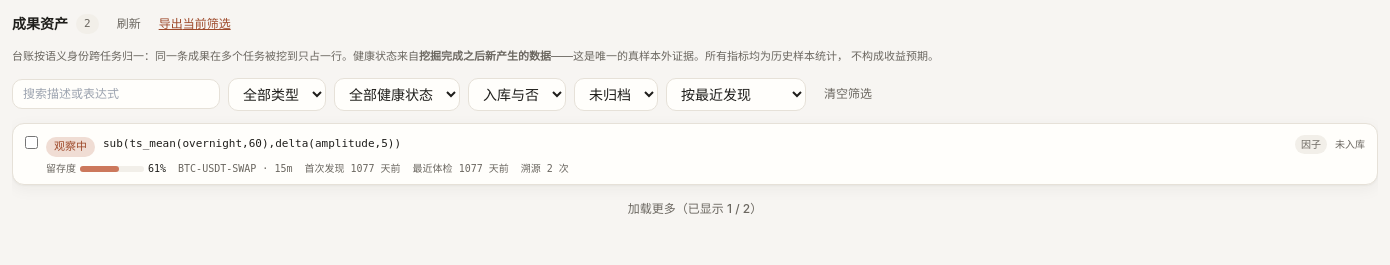
Scenario: DiscoveryAssets › 「加载更多」是累加而不是替换（否则已看的那一页会凭空消失）
What coordinates should you click on to do the following:
click the button "加载更多（已显示 1 / 2）"
I would click on:
 (695, 209)
Its box is [12,197,1378,221].
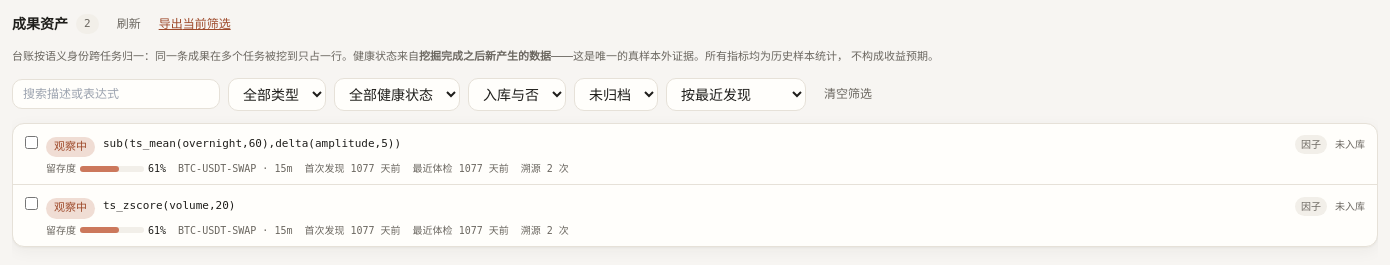
Expected: the button "sub(ts_mean(overnight,60),delta(amplitude,5))" is shown, [103,136,1287,153]
Now the button "ts_zscore(volume,20)" is shown, box [103,198,1287,214]
